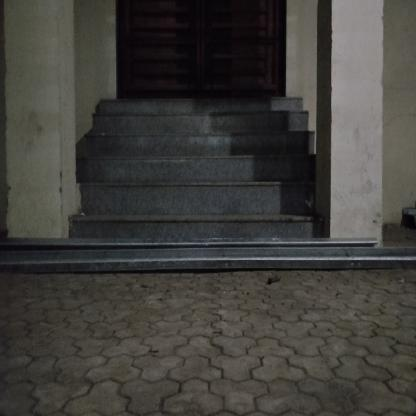stairs: (99, 99, 310, 235)
